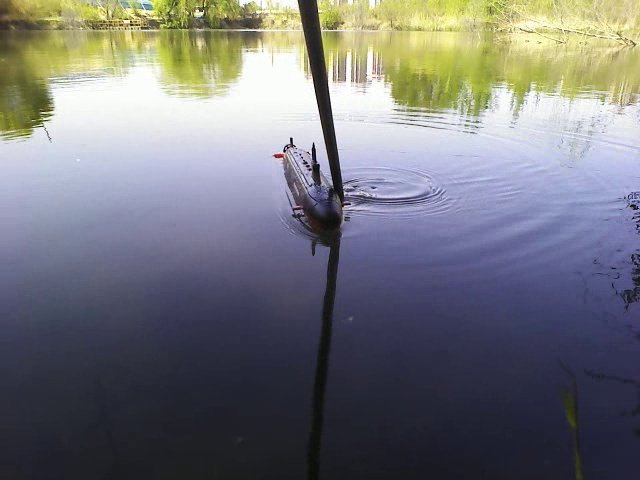submarine: (268, 136, 352, 236)
